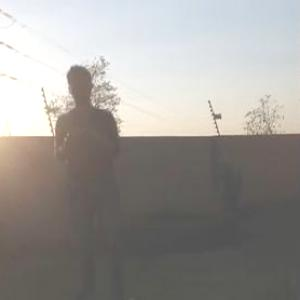follow: (50, 64, 139, 299)
